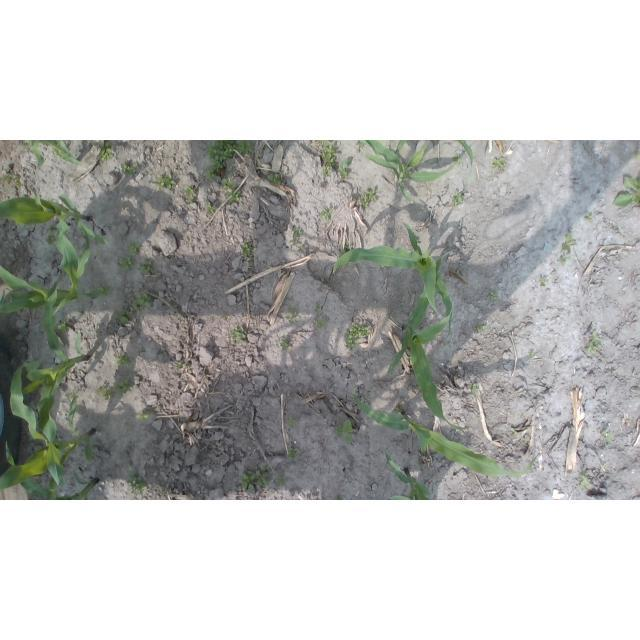Maize: (350, 389, 538, 479), (388, 251, 468, 432), (332, 222, 454, 339), (21, 290, 89, 490), (1, 360, 96, 500), (0, 191, 108, 288), (0, 260, 104, 316), (360, 140, 453, 201), (5, 440, 99, 500), (385, 452, 432, 500), (395, 141, 473, 166), (31, 140, 81, 164)
Weeds: (612, 177, 640, 208), (207, 140, 235, 160), (242, 469, 267, 491), (319, 140, 337, 168), (132, 292, 152, 314), (335, 420, 353, 444), (587, 331, 604, 354), (347, 323, 369, 339), (360, 188, 377, 208), (156, 173, 176, 190), (127, 476, 145, 494), (99, 142, 113, 164), (3, 167, 19, 185), (240, 243, 256, 261), (95, 387, 114, 402), (562, 233, 576, 253), (185, 184, 198, 204), (116, 310, 133, 325), (119, 256, 133, 274), (235, 140, 253, 154), (491, 157, 506, 173), (116, 381, 132, 395), (232, 327, 246, 343), (140, 260, 153, 277), (338, 159, 349, 179), (47, 227, 58, 246), (292, 227, 303, 245), (120, 165, 137, 176), (220, 178, 237, 189), (320, 207, 333, 221), (116, 355, 131, 367), (228, 191, 241, 204), (268, 173, 281, 186), (56, 321, 70, 333), (287, 446, 299, 460), (452, 191, 464, 205), (287, 308, 297, 323), (601, 430, 613, 442), (347, 340, 358, 352), (208, 167, 217, 181), (316, 318, 328, 328), (476, 324, 489, 333), (129, 242, 140, 252), (102, 286, 113, 296), (278, 339, 289, 349), (468, 383, 478, 394), (211, 161, 223, 170), (579, 469, 588, 481), (454, 152, 463, 164), (136, 412, 149, 420), (322, 166, 332, 176), (207, 204, 216, 214), (489, 292, 500, 300), (559, 257, 571, 264), (511, 428, 520, 437), (539, 278, 548, 287), (584, 213, 593, 222), (277, 476, 285, 486), (580, 481, 590, 489), (338, 249, 346, 258), (261, 465, 271, 472), (179, 364, 190, 370), (356, 140, 364, 148), (53, 148, 60, 157), (68, 392, 75, 400), (396, 406, 404, 413), (288, 419, 297, 425), (221, 313, 228, 320), (24, 141, 31, 147), (528, 351, 534, 358), (527, 435, 531, 445), (635, 151, 640, 159), (388, 312, 393, 319), (316, 302, 321, 308), (345, 243, 349, 249)
